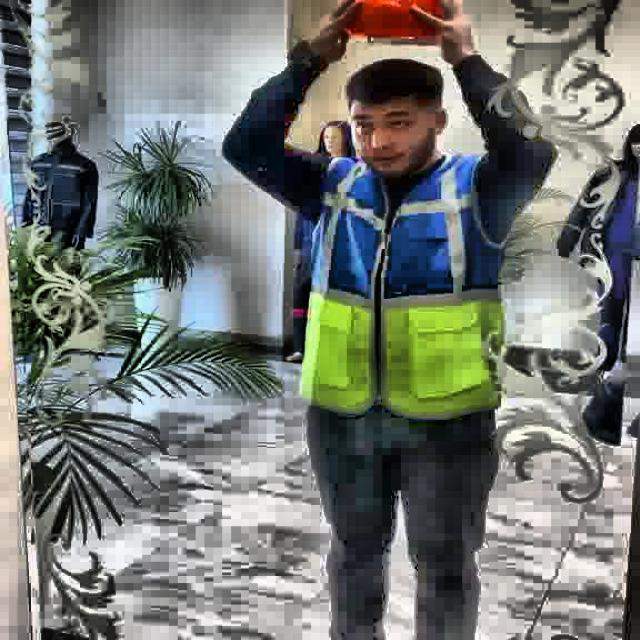safety_helmet: (338, 1, 451, 38)
safety_jacket: (288, 150, 511, 416)
